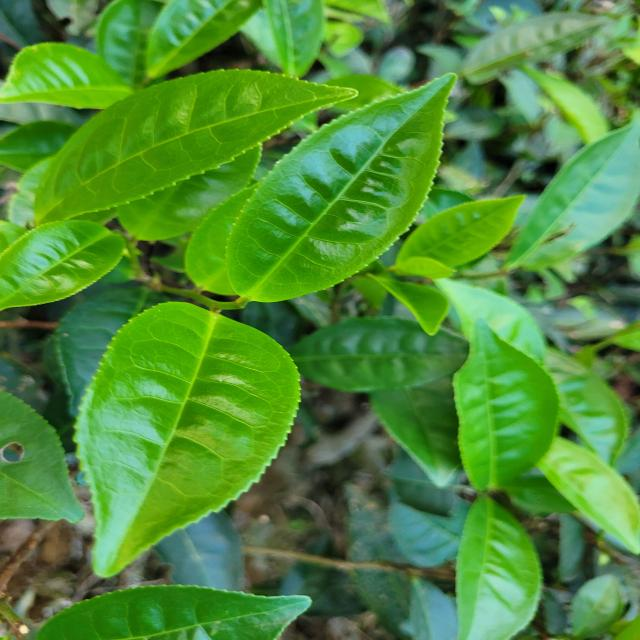Catagory A(1-2 days): (199, 68, 474, 311)
